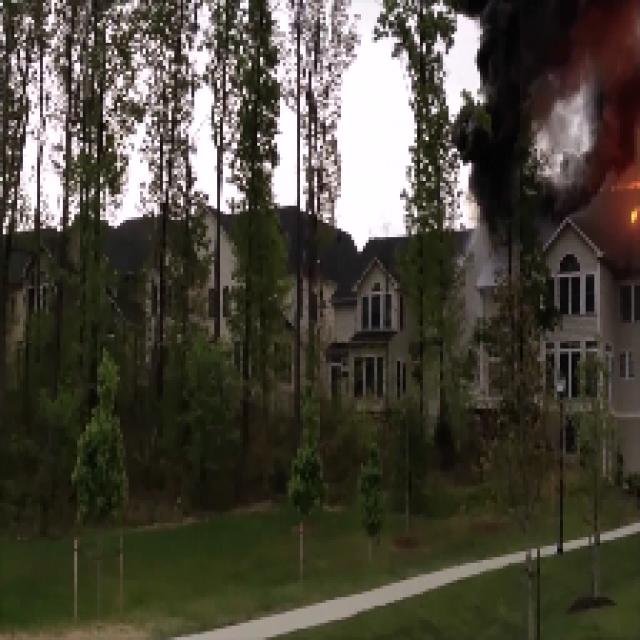fire: (480, 3, 640, 181)
